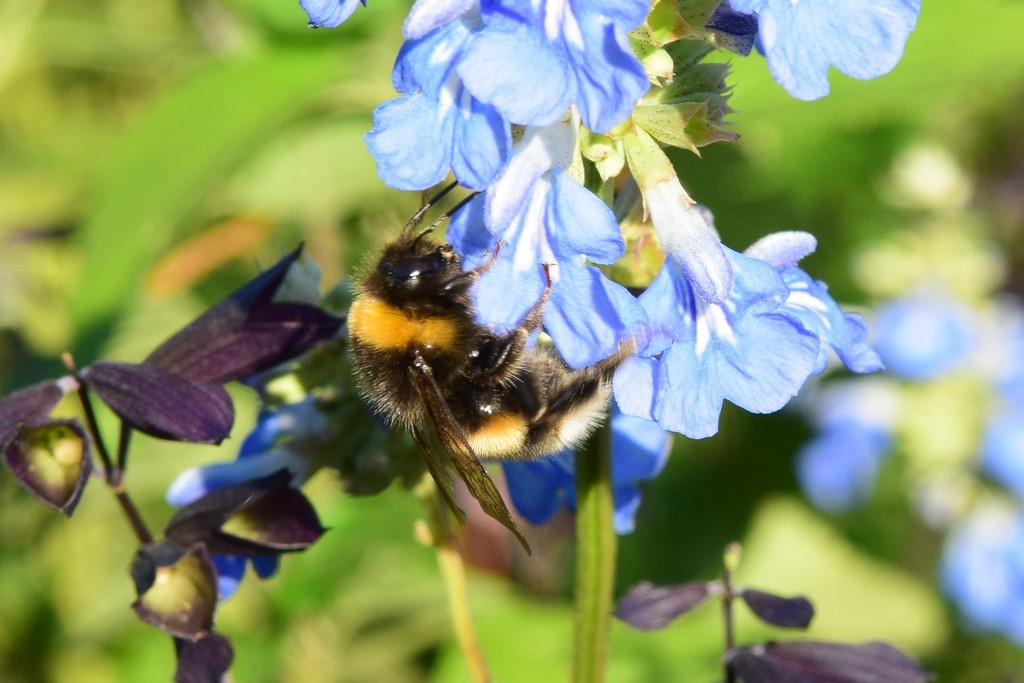bumblebee: (344, 179, 614, 560)
